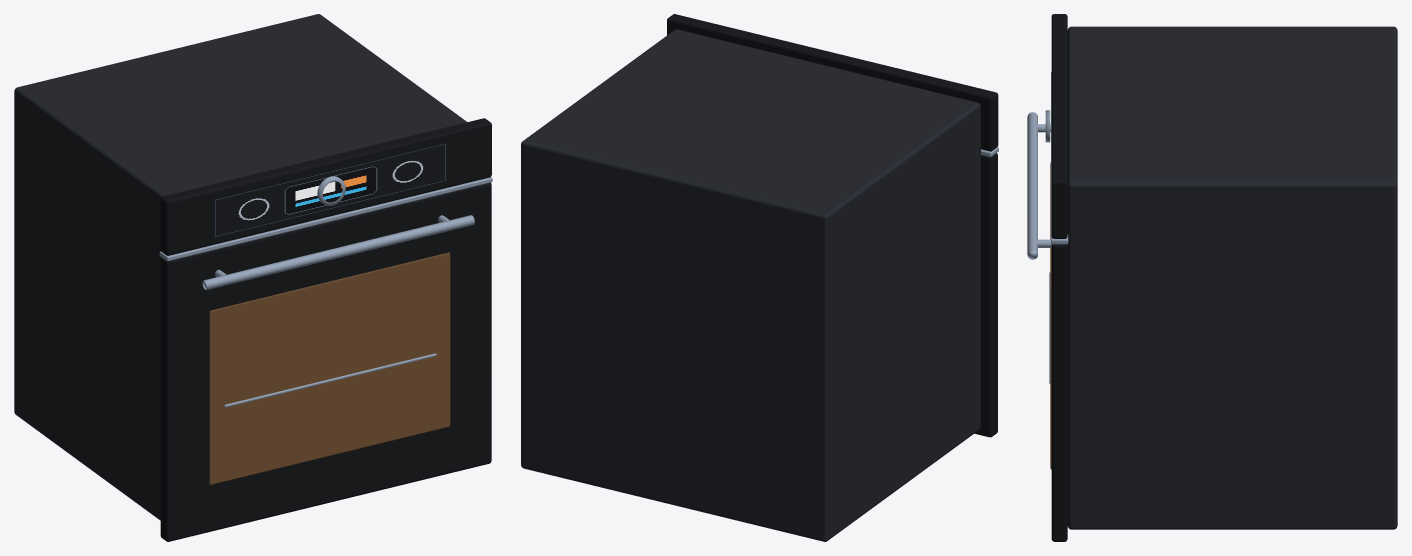
The model's file is obj_oven_builtin_600.glb.
3 renders of one model, left to right at view 1: azimuth 30°, elevation 25°; view 2: azimuth 150°, elevation 25°; view 3: azimuth 270°, elevation 25°, orthographic. The views are drawn at different scales.
Parts seen in each view (by area): view 1: obj_oven_builtin_600; view 2: obj_oven_builtin_600; view 3: obj_oven_builtin_600.
Part boxes in pixels (x1=…): obj_oven_builtin_600: x1=14, y1=14, x2=492, y2=541; obj_oven_builtin_600: x1=521, y1=14, x2=998, y2=541; obj_oven_builtin_600: x1=1027, y1=14, x2=1397, y2=541.
Size of the model in its own units: 0.594 by 0.595 by 0.552.
Materials: 5 (1 with a texture image).
